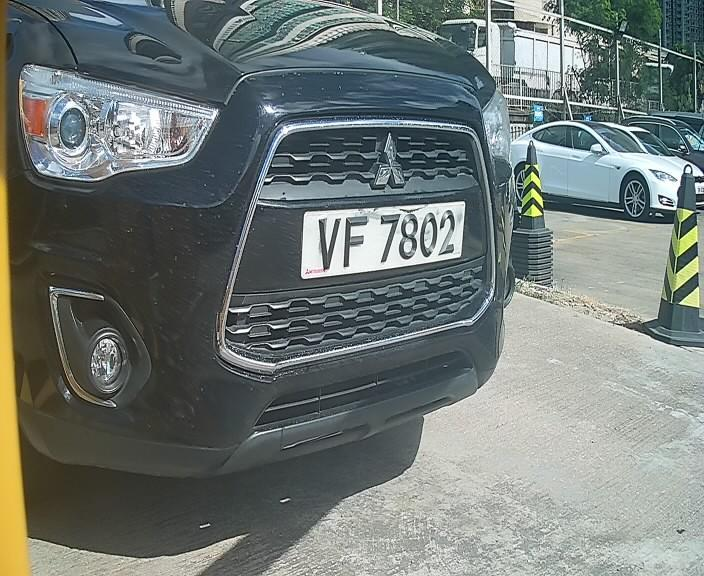License Plate: (296, 188, 469, 291)
